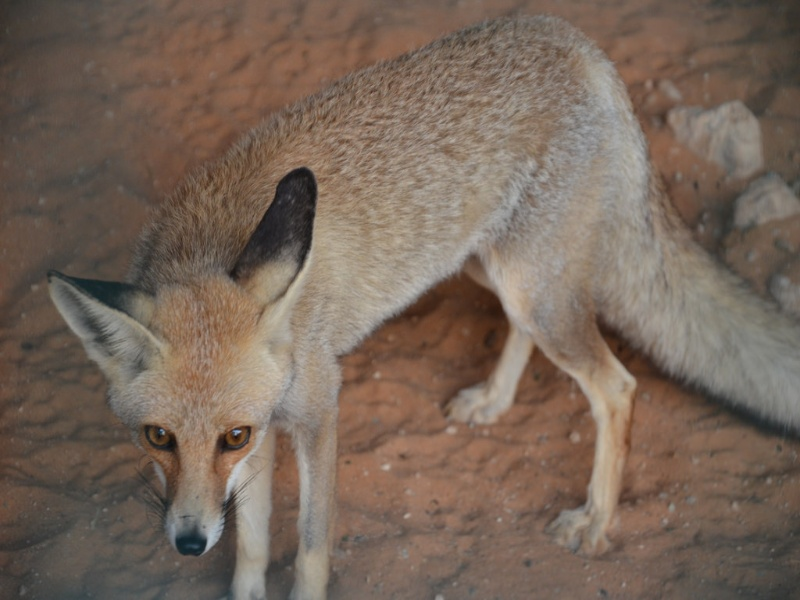fox: (50, 8, 780, 596)
